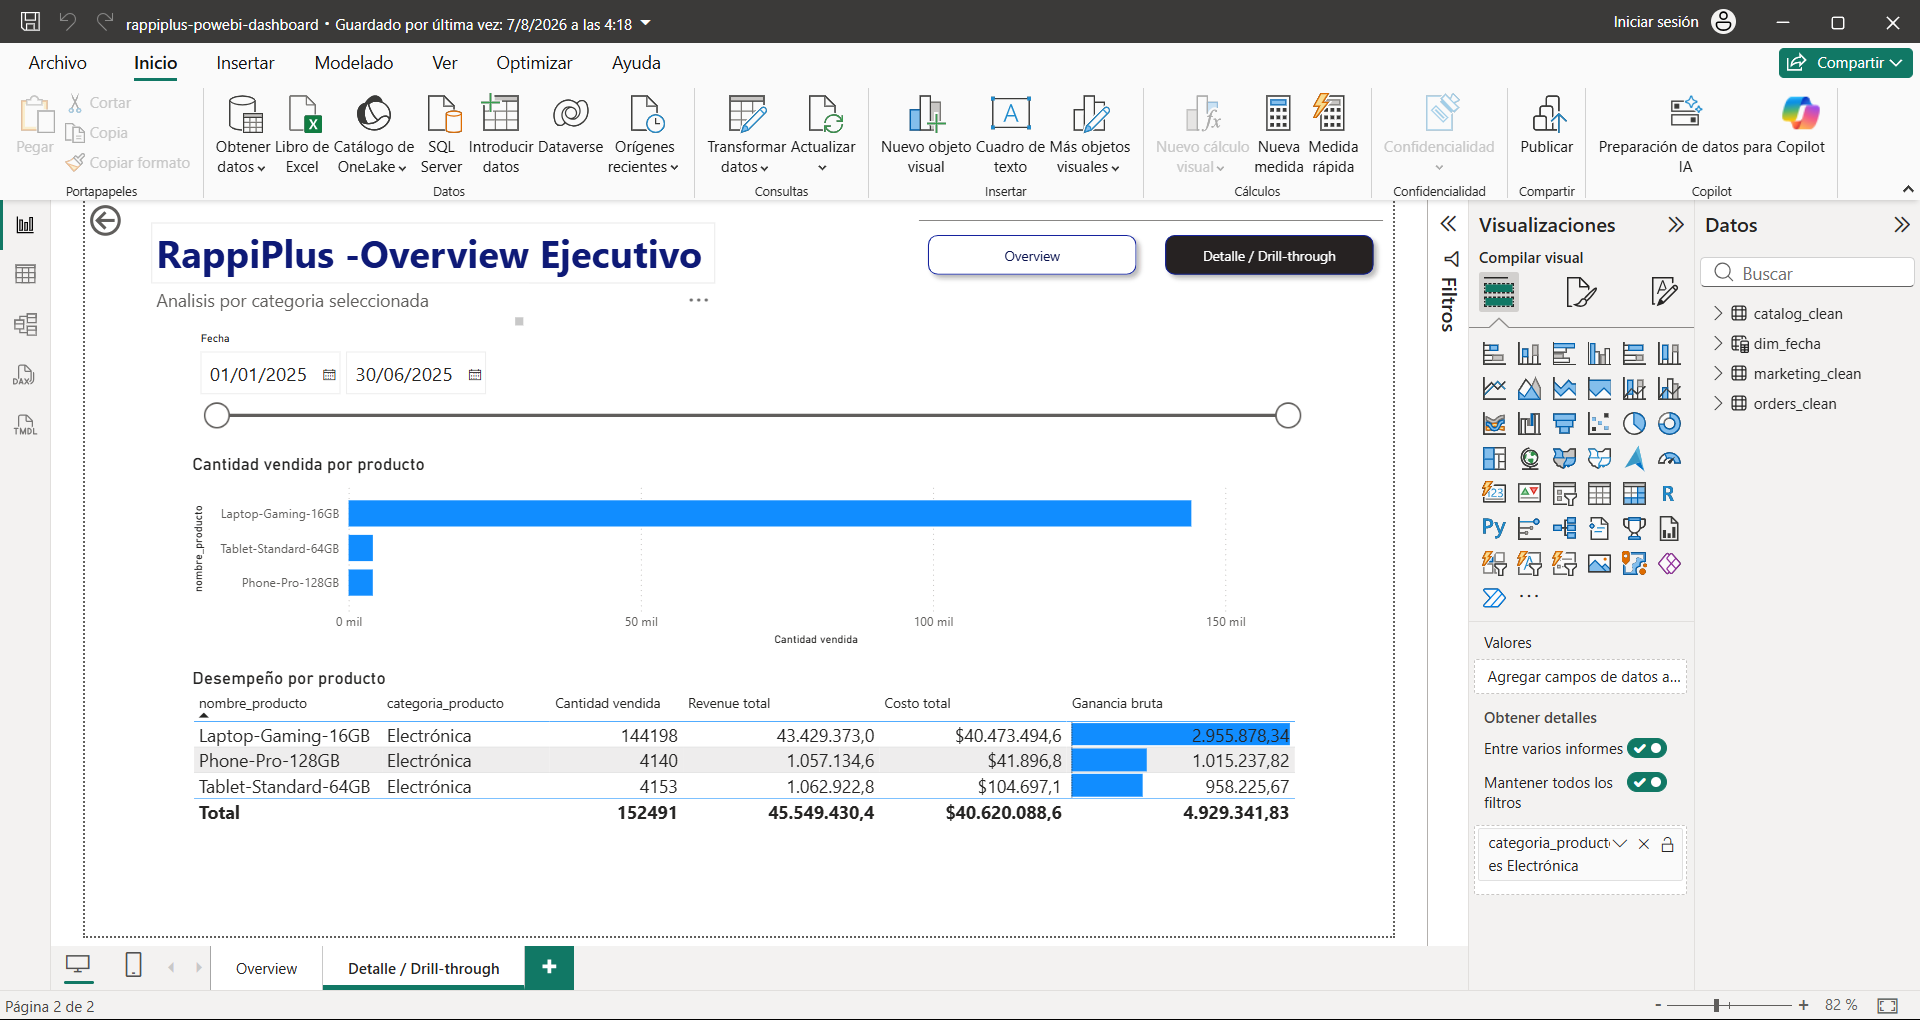

The page's visual inventory and layout, read from the dashboard file:
{"tool":"powerbi","page":{"name":"Detalle / Drill-through","canvas":[1280,720],"ordinal":1},"visuals":[{"type":"pageNavigator","box":[815.8,19.3,454.5,62.6],"z":0},{"type":"tableEx","title":"Desempeño por producto","fields":{"Values":["orders_clean.nombre_producto","orders_clean.categoria_producto","orders_clean.Cantidad vendida","orders_clean.Revenue total","orders_clean.Costo total","orders_clean.Ganancia bruta"]},"box":[100.9,456.8,1097.6,176.5],"z":1000},{"type":"clusteredBarChart","title":"Cantidad vendida por producto","fields":{"Category":["catalog_clean.nombre_producto"],"Y":["orders_clean.Cantidad vendida"]},"box":[100.9,247.7,1097.6,192.8],"z":2000},{"type":"slicer","fields":{"Values":["dim_fecha.Fecha"]},"box":[100.9,123.1,1097.6,124.6],"z":3000},{"type":"actionButton","box":[0,0,100,40],"z":4000},{"type":"textbox","box":[65.3,22.2,551.3,59.6],"z":5000},{"type":"textbox","box":[65.3,81.6,369.3,46],"z":5001}]}

Visuals, with their boxes on the page's 1280x720 design canvas (x1, y1, x2, y2). These are canvas units, not pixel positions in the 1920x1020 screenshot, which may show the page scaled, cropped or inside an application window:
pageNavigator: 816 19 1270 82
"Desempeño por producto" tableEx: 101 457 1198 633
"Cantidad vendida por producto" clusteredBarChart: 101 248 1198 440
slicer - dim_fecha.Fecha: 101 123 1198 248
actionButton: 0 0 100 40
textbox: 65 22 617 82
textbox: 65 82 435 128
